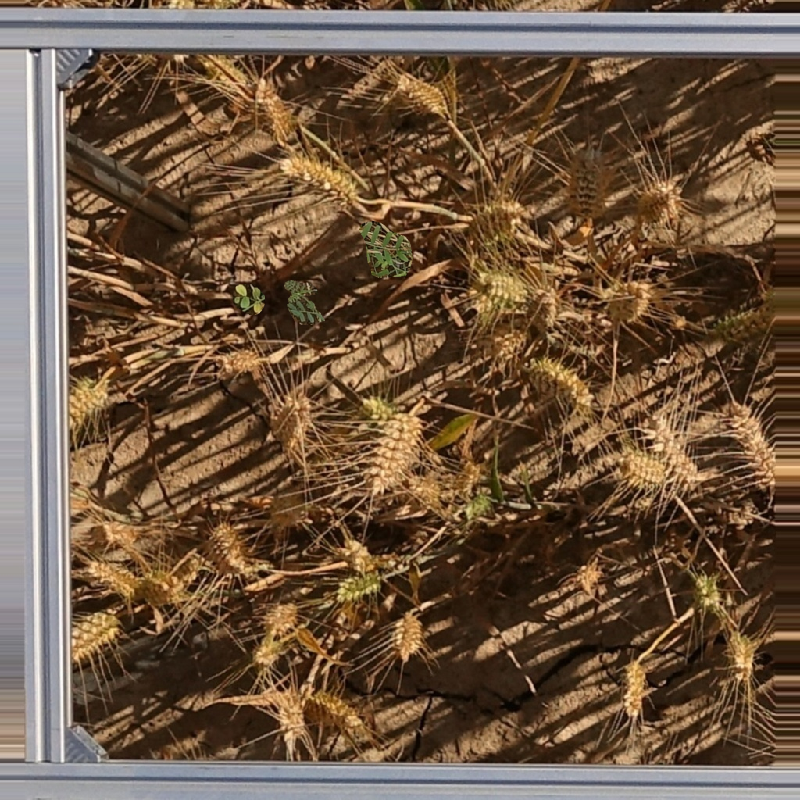spikelet: (366, 411, 423, 492), (728, 401, 775, 486), (277, 153, 359, 199), (526, 355, 593, 408), (311, 688, 369, 741), (66, 608, 121, 663), (253, 75, 297, 140), (270, 389, 314, 450), (209, 520, 256, 576), (470, 196, 525, 242), (602, 276, 654, 323), (64, 374, 110, 426), (395, 72, 448, 116), (272, 686, 308, 749), (474, 267, 529, 307), (85, 557, 139, 597), (635, 177, 684, 220), (618, 447, 668, 489), (710, 306, 765, 342), (136, 568, 185, 606), (375, 231, 414, 278), (390, 610, 424, 661), (725, 629, 758, 681), (283, 279, 321, 324), (620, 658, 648, 718), (575, 156, 601, 218), (334, 570, 381, 603), (690, 571, 723, 612), (216, 346, 261, 376), (489, 327, 528, 361), (262, 600, 298, 634), (337, 538, 375, 570), (462, 487, 495, 522), (359, 393, 395, 425), (250, 637, 283, 667), (575, 559, 603, 589)
weed: (359, 221, 413, 278), (284, 280, 325, 325), (233, 284, 265, 315)
